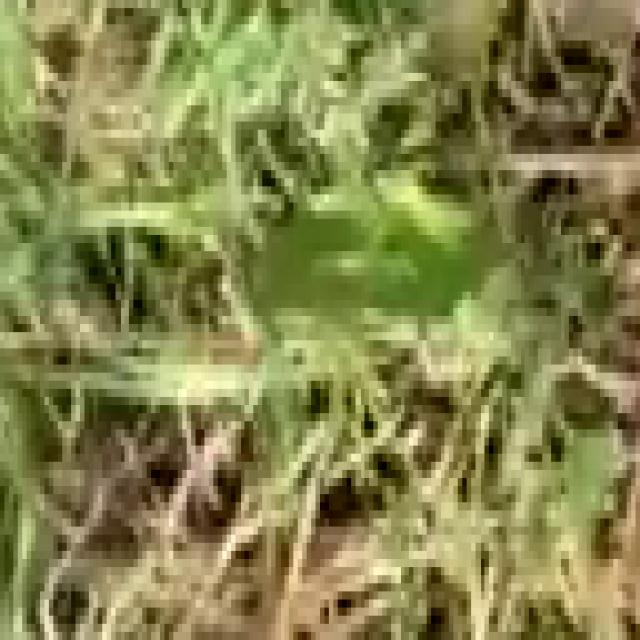organic waste: (178, 89, 511, 413)
